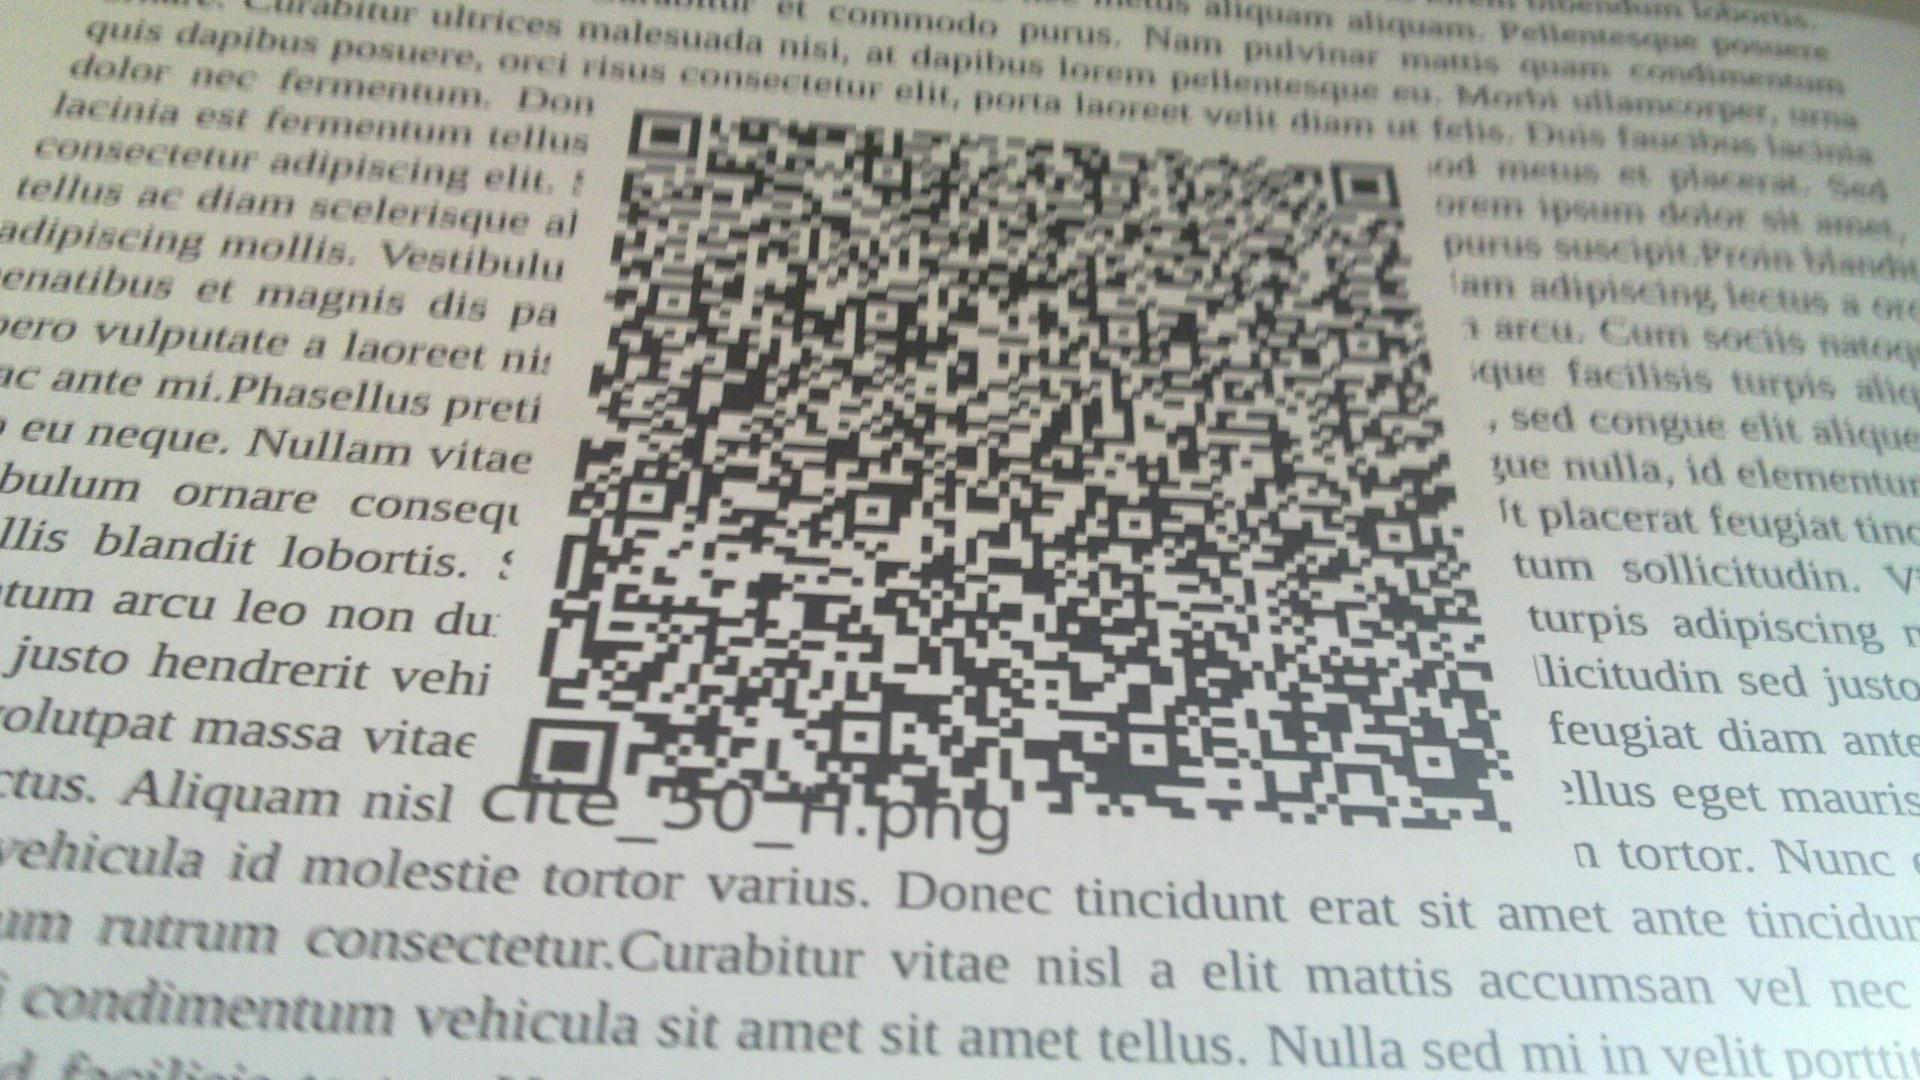qr_code: (517, 108, 1520, 835)
